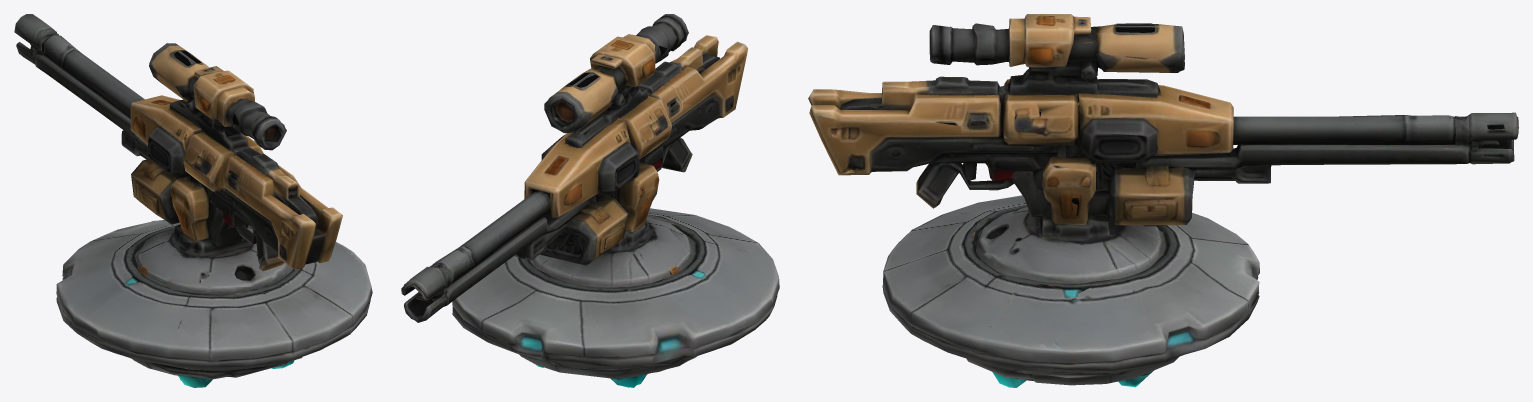
Rendered from 09_Sniper Drones.glb.
3 views of the same model, side by side, from view 1: azimuth 30°, elevation 25°; view 2: azimuth 150°, elevation 25°; view 3: azimuth 270°, elevation 25° (orthographic). The views are drawn at different scales.
Bounding box in the file's own units: 0.5291 × 0.5447 × 0.9917.
1 material, 1 textured.
